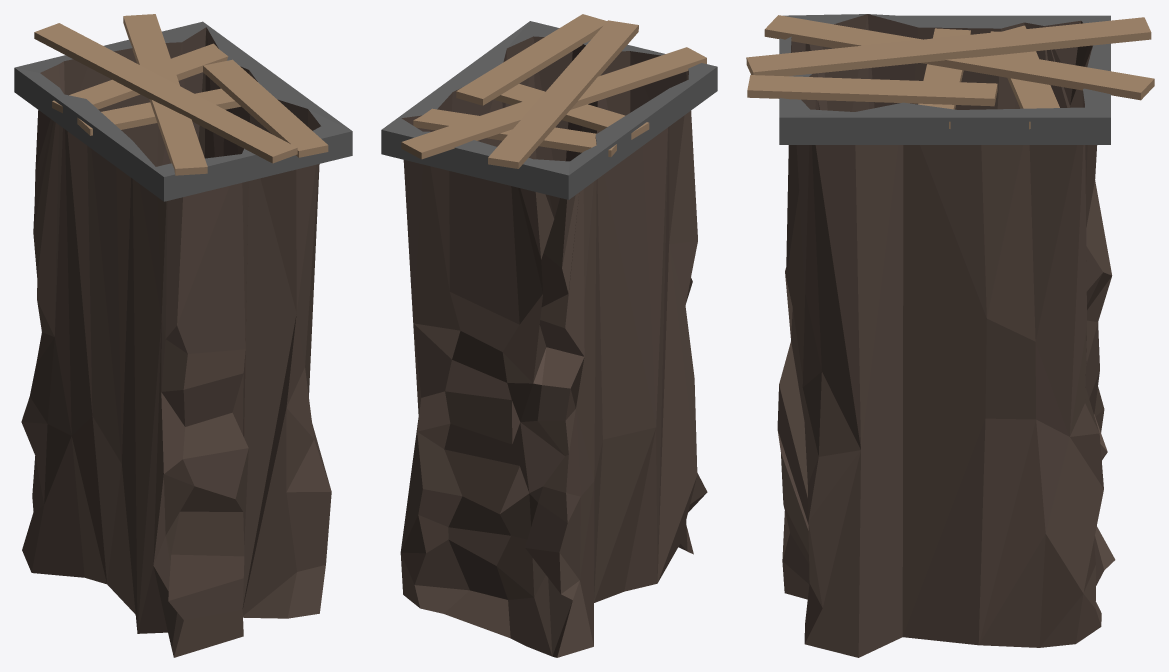
The model's file is trap.fbx.
3 views of the same model, side by side, from view 1: azimuth 30°, elevation 25°; view 2: azimuth 150°, elevation 25°; view 3: azimuth 270°, elevation 25° (orthographic). The views are drawn at different scales.
Visible parts, largest first — view 1: floor-trap, boards; view 2: floor-trap, boards; view 3: floor-trap, boards.
Part boxes in pixels (x1,y1,x2,y2): floor-trap: (14,21,352,657); boards: (34,14,328,175); floor-trap: (381,21,717,657); boards: (401,14,706,168); floor-trap: (777,14,1115,657); boards: (746,15,1154,129).
Bounding box in the file's own units: 818 × 2066 × 1353.
